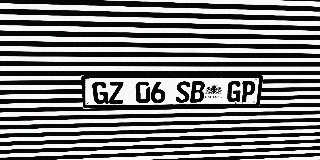plate: (81, 75, 264, 109)
